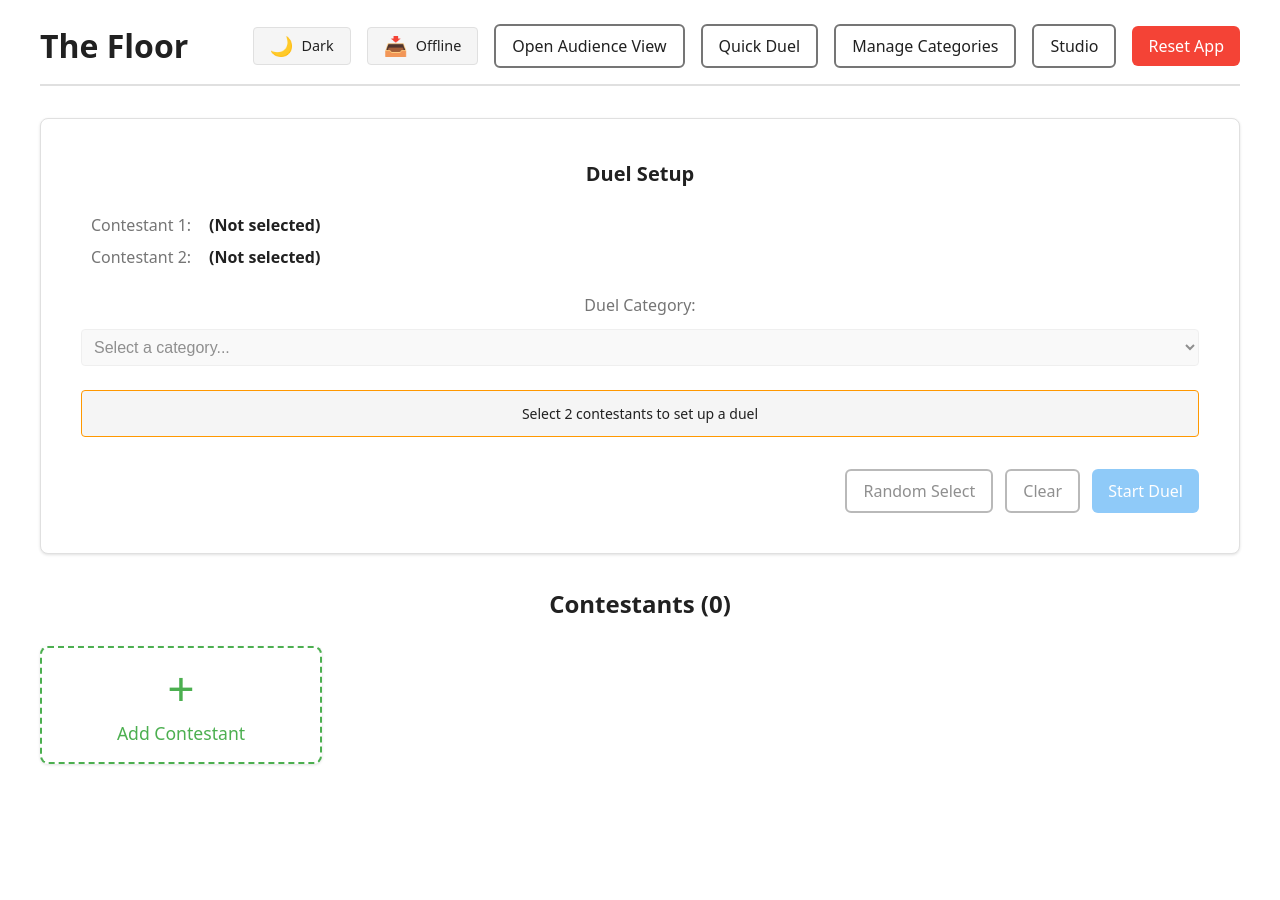
Test: Dashboard › Reset Application › cancels reset when Cancel button clicked
The width and height of the screenshot is (1280, 900).
Note: Click Reset App
Click the button "Reset App" at (1186, 46), box x1=1132 y1=26 x2=1240 y2=66
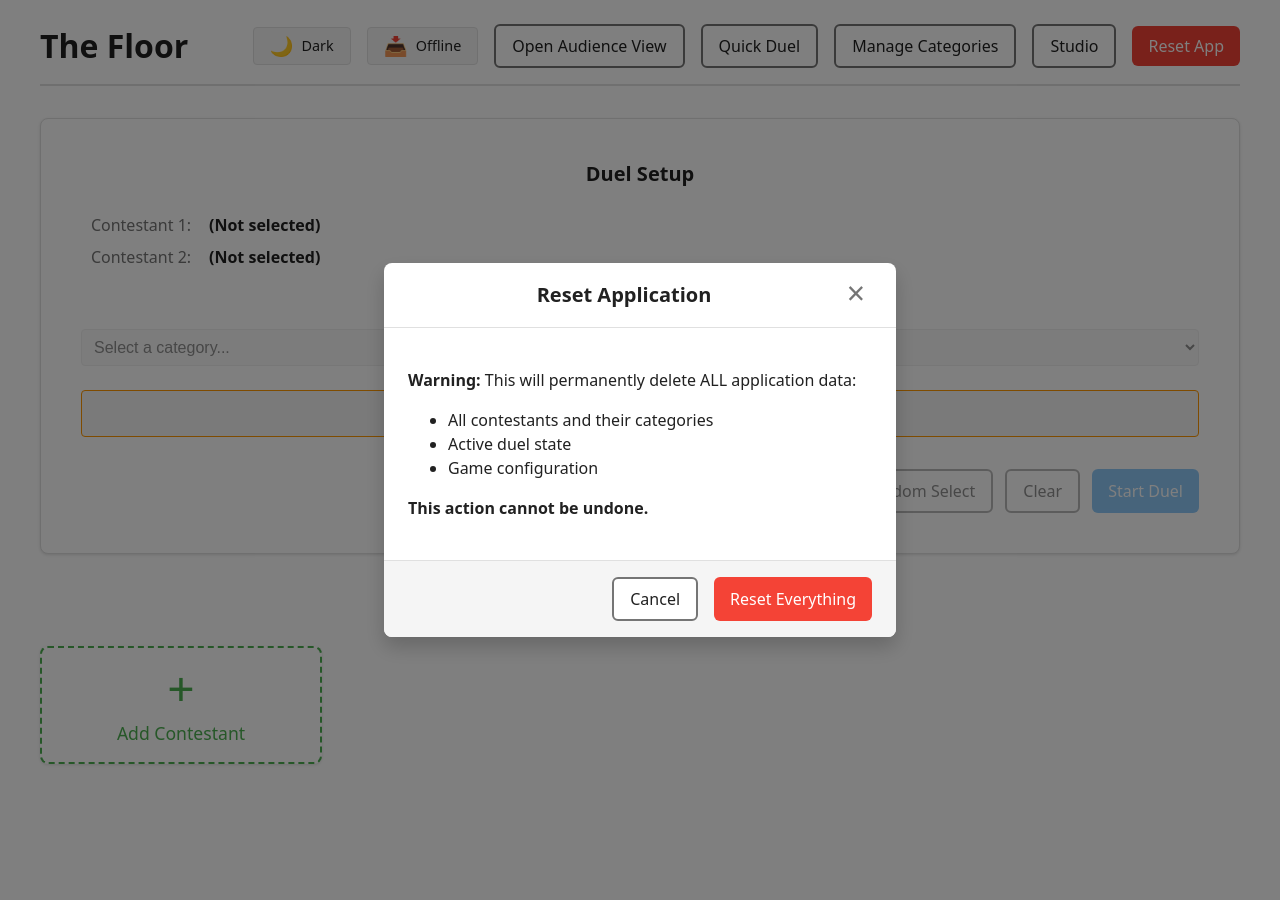
Check: the dialog "Reset Application" is shown, box x1=384 y1=263 x2=896 y2=637
Click the button "Cancel" at (655, 599), box x1=612 y1=577 x2=698 y2=621
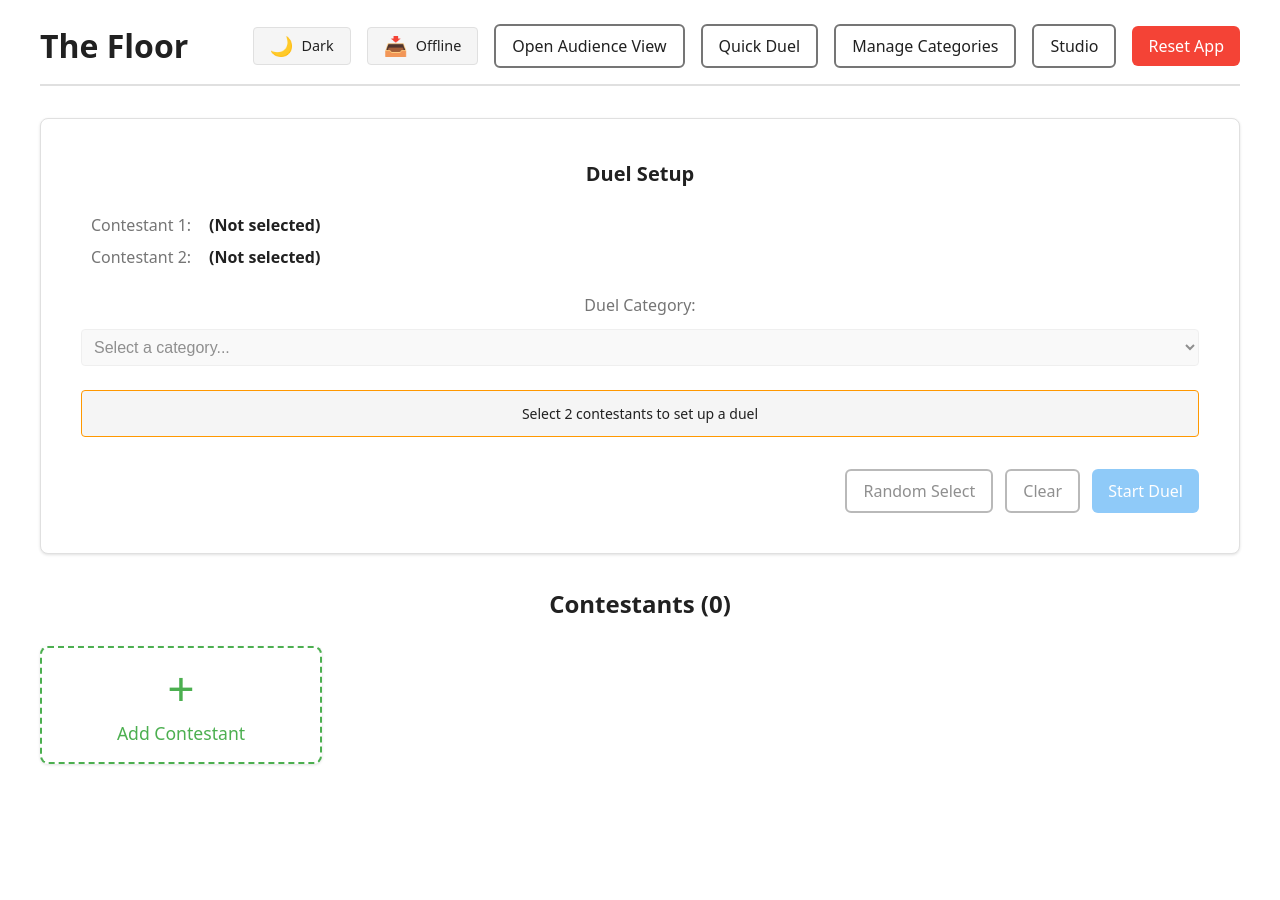
Check: the button "Reset Application" is gone
